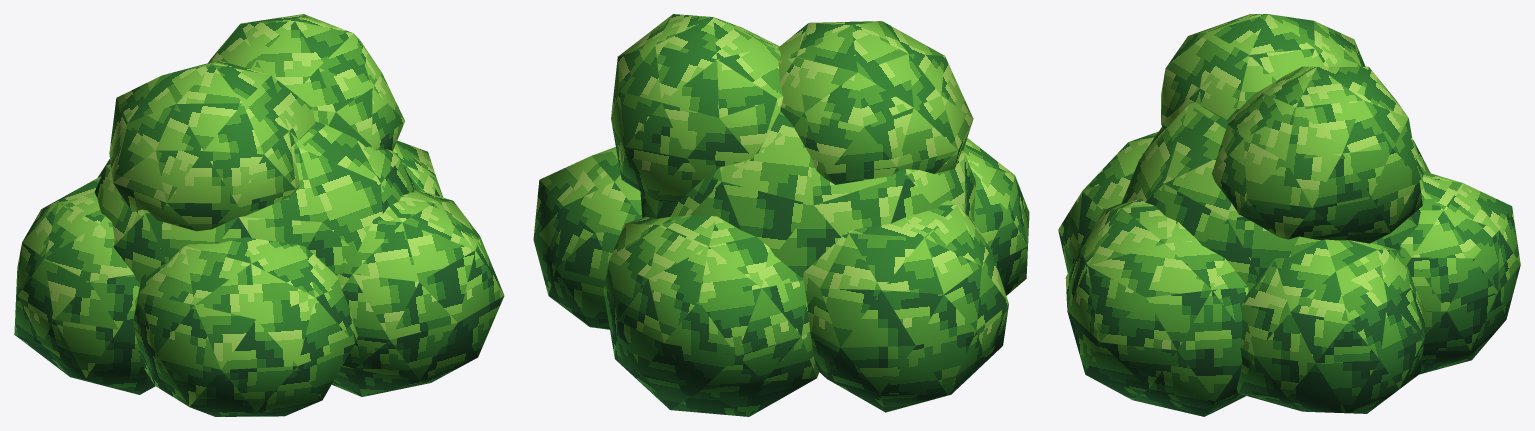
Rendered from bush_a.glb.
The picture shows the model from 3 angles, left to right: view 1: azimuth 30°, elevation 25°; view 2: azimuth 150°, elevation 25°; view 3: azimuth 270°, elevation 25°; orthographic projection. The views are drawn at different scales.
Visible parts, largest first — view 1: bush_a; view 2: bush_a; view 3: bush_a.
Part boxes in pixels (box(x1,y1,x2,y2)): bush_a: box(14, 14, 504, 416); bush_a: box(533, 14, 1029, 416); bush_a: box(1058, 14, 1520, 416).
Bounding box in the file's own units: 1.65 × 1.18 × 1.58.
Materials: 1 (1 with a texture image).
